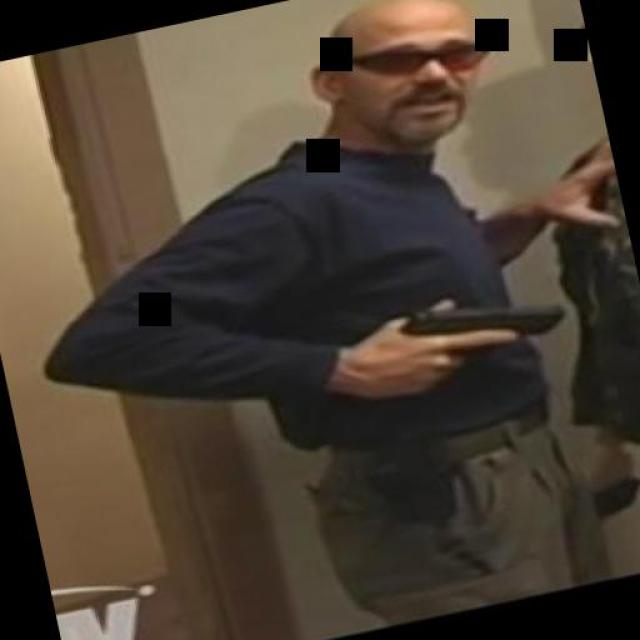gun: (370, 275, 578, 403)
